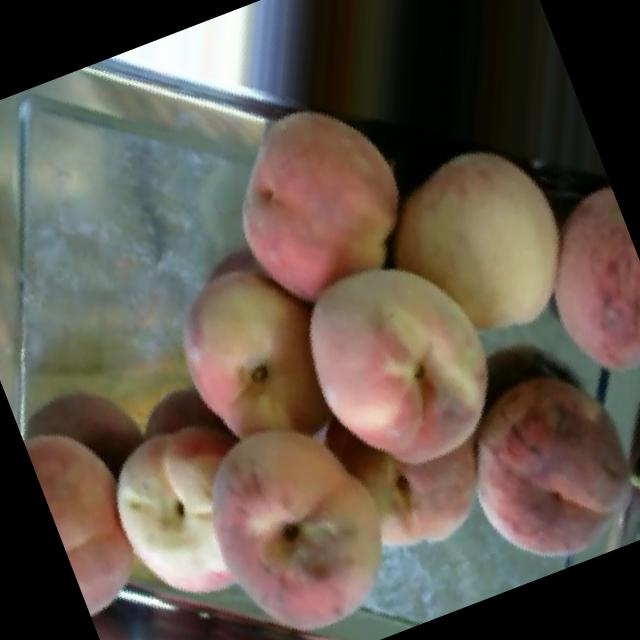Fruit: (244, 197, 564, 534), (351, 101, 640, 395), (122, 215, 388, 513), (150, 372, 441, 640), (179, 68, 446, 344), (410, 316, 640, 597), (20, 369, 247, 636), (15, 390, 167, 633)
